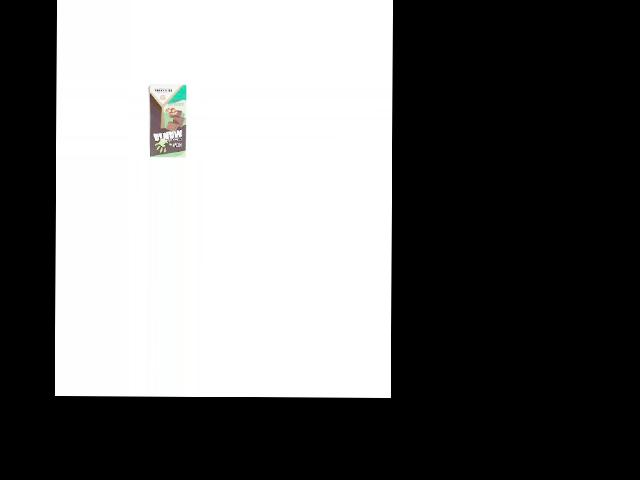chocolate: (147, 83, 188, 158)
